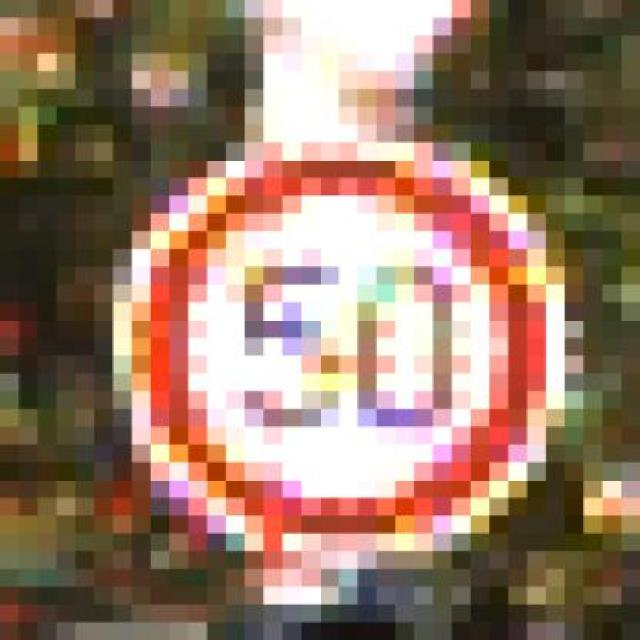50 mph speed limit: (76, 89, 564, 586)
